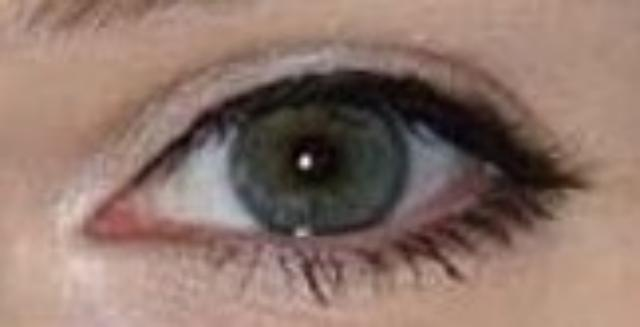eye: (228, 82, 412, 238)
